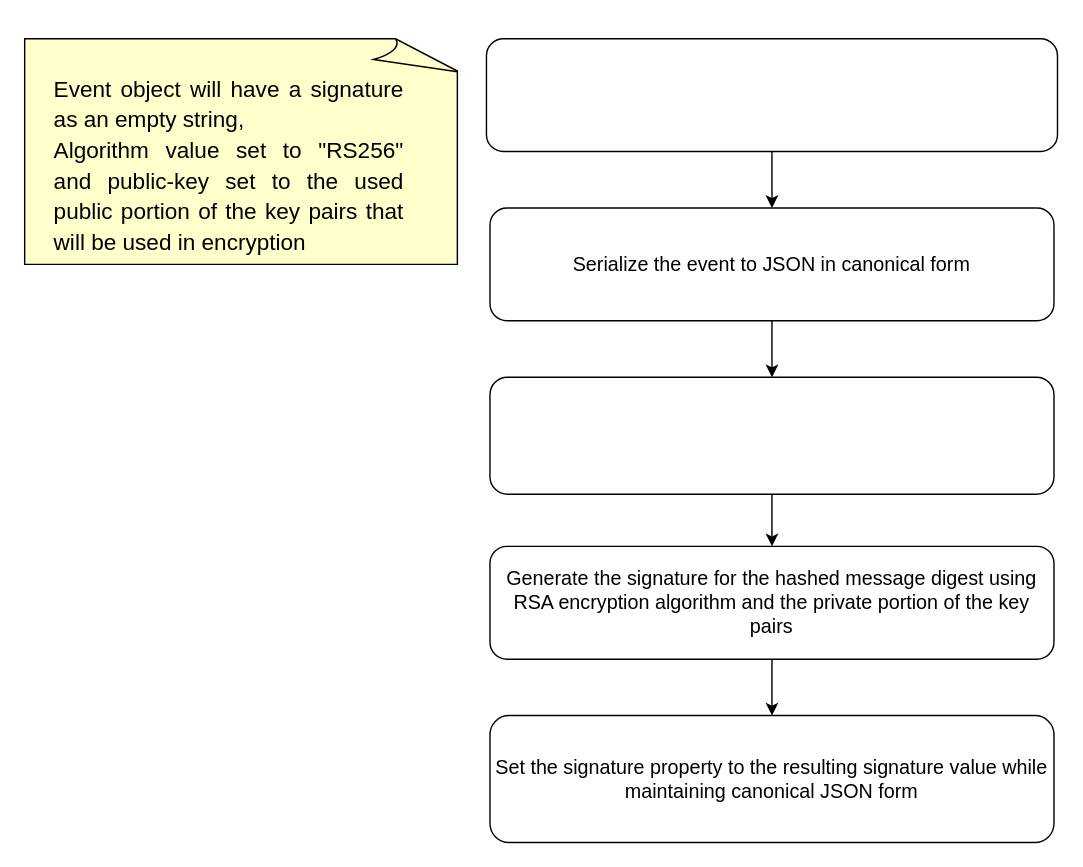
Some shapes in this 1083 by 867 pixel diagram are drawn without their labels. The shapes that lost their labels are listed below. From the top down, each one's box as (x1, y1, x2, y2) in pixels, then its label:
(485, 37, 1058, 152): Generate the entire event
(489, 376, 1054, 494): Hash the JSON string using SHA256 hashing algorithm to get message digest
